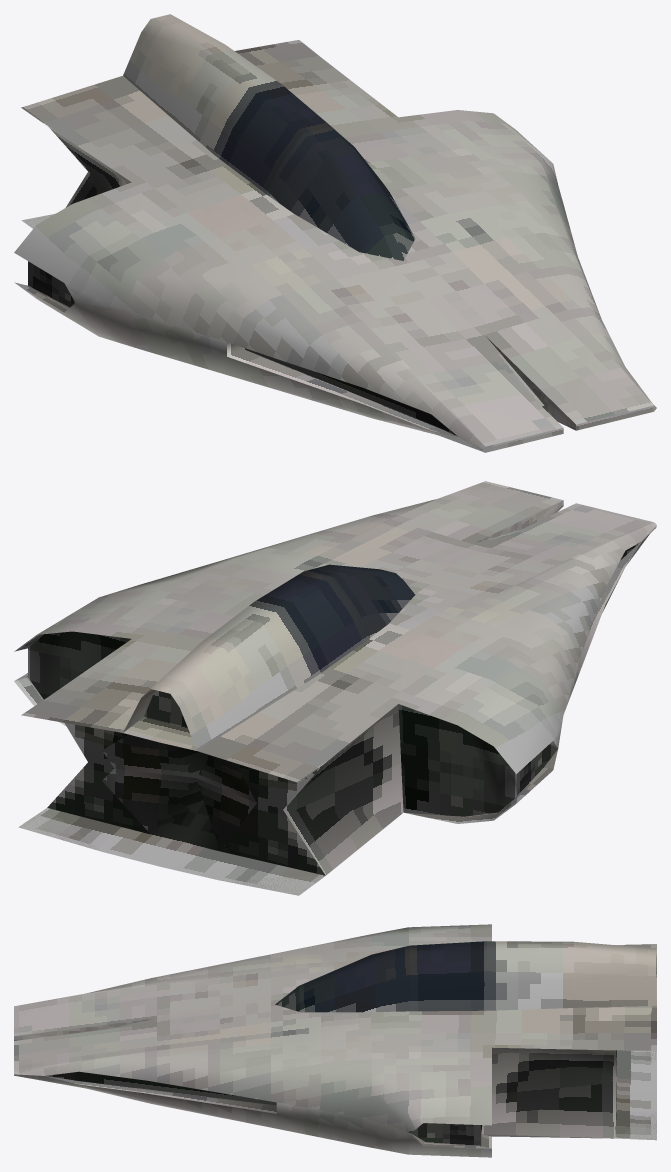
Rendered from awing_body_l2.fbx.
The picture shows the model from 3 angles, top to bottom: view 1: azimuth 30°, elevation 25°; view 2: azimuth 150°, elevation 25°; view 3: azimuth 270°, elevation 25°; orthographic projection. The views are drawn at different scales.
Visible parts, largest first — view 1: mesh_node; view 2: mesh_node; view 3: mesh_node.
Boxes of the visible parts, bbox=[...] form: mesh_node: bbox=[14, 14, 656, 452]; mesh_node: bbox=[14, 481, 656, 895]; mesh_node: bbox=[14, 924, 656, 1157].
Bounding box in the file's own units: 8.24 × 2.87 × 11.64.
2 materials, 2 textured.
